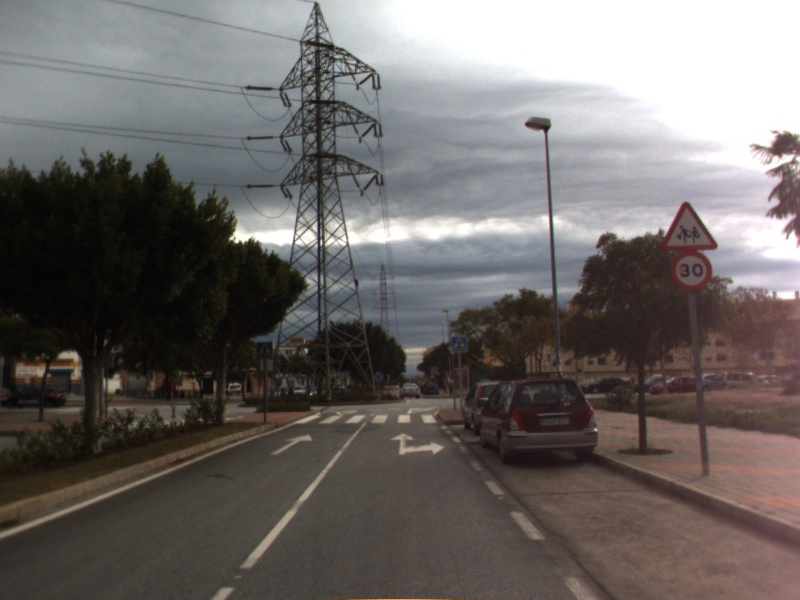STRAIGHT: (268, 432, 314, 457)
STRAIGHT_RIGHT: (388, 431, 447, 457)
